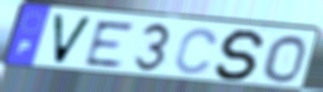3: (130, 21, 174, 75)
C: (173, 27, 220, 77)
E: (83, 19, 137, 69)
O: (261, 34, 308, 84)
S: (212, 28, 269, 82)
V: (50, 12, 95, 67)
